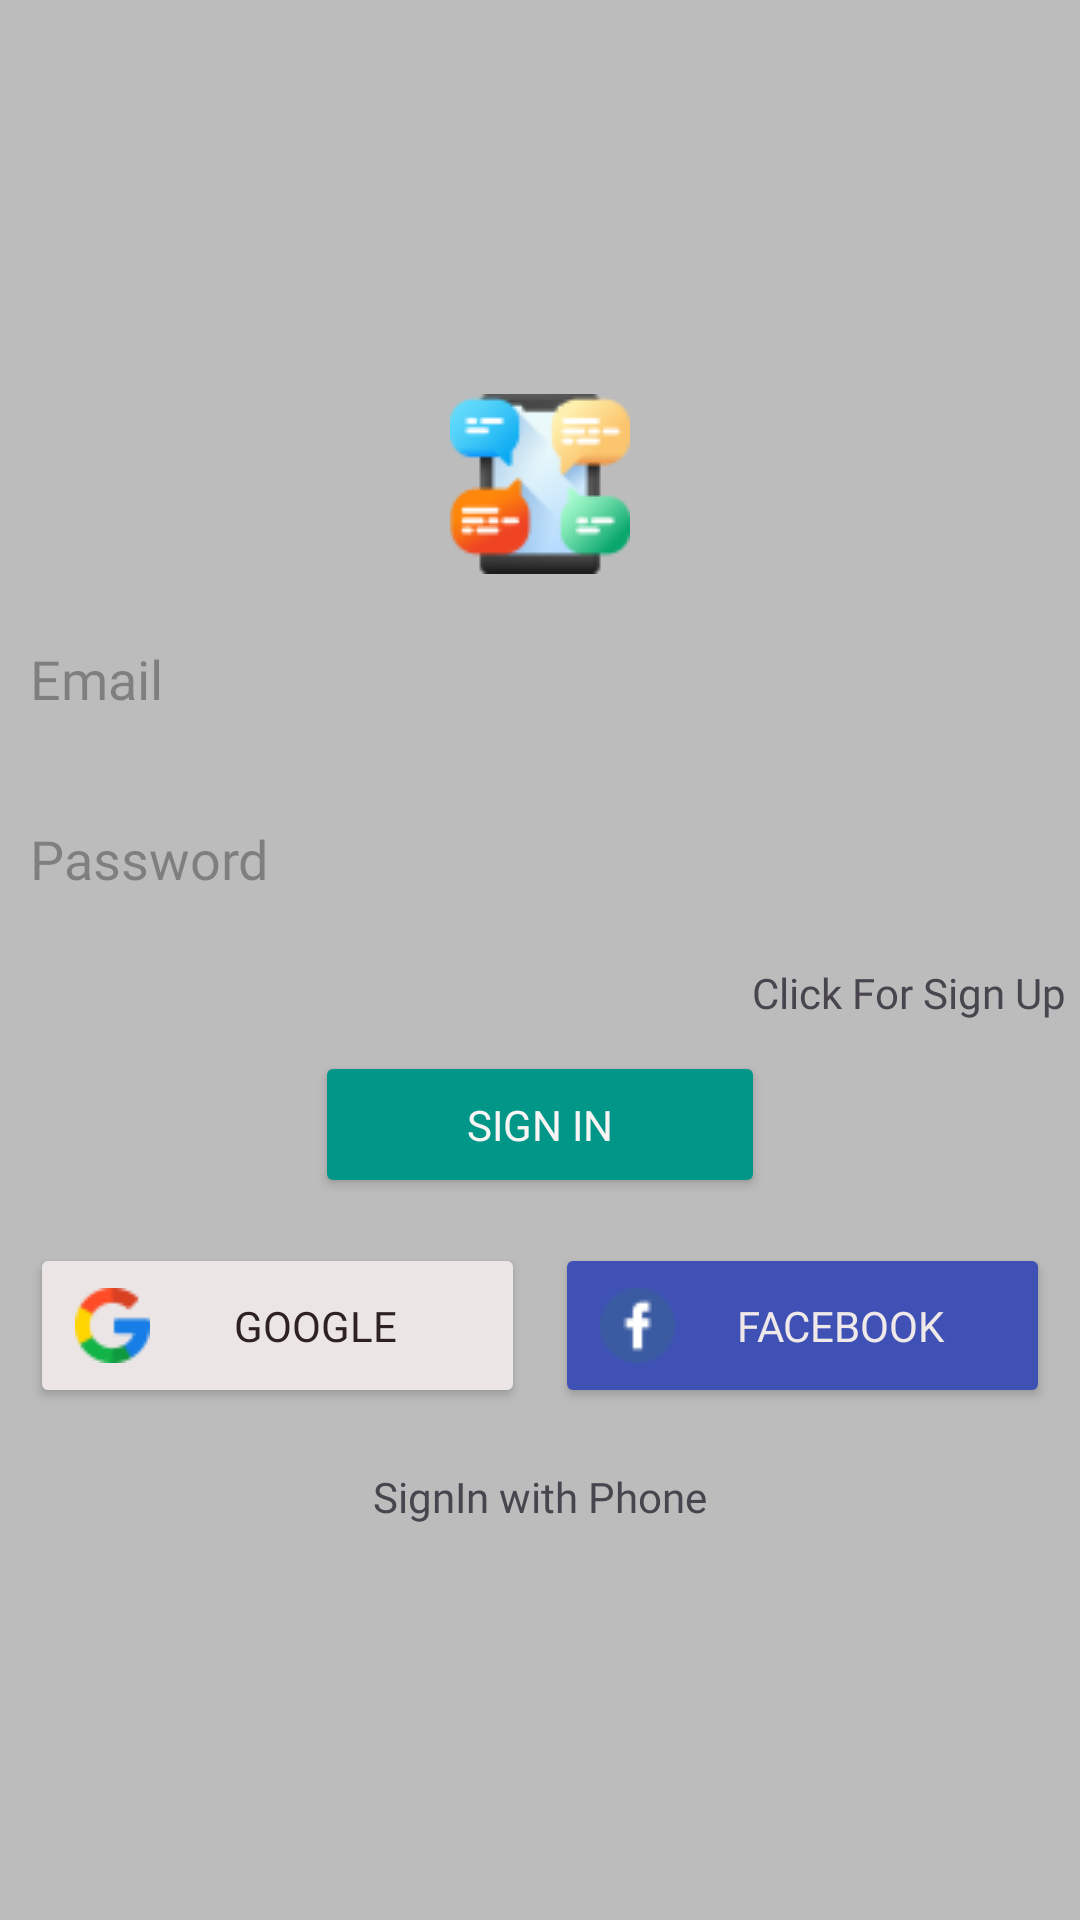

Named icons in this screenshot (1080px×1920px) and their centers, (x=x, y=y):
chat: (x=540, y=484)
